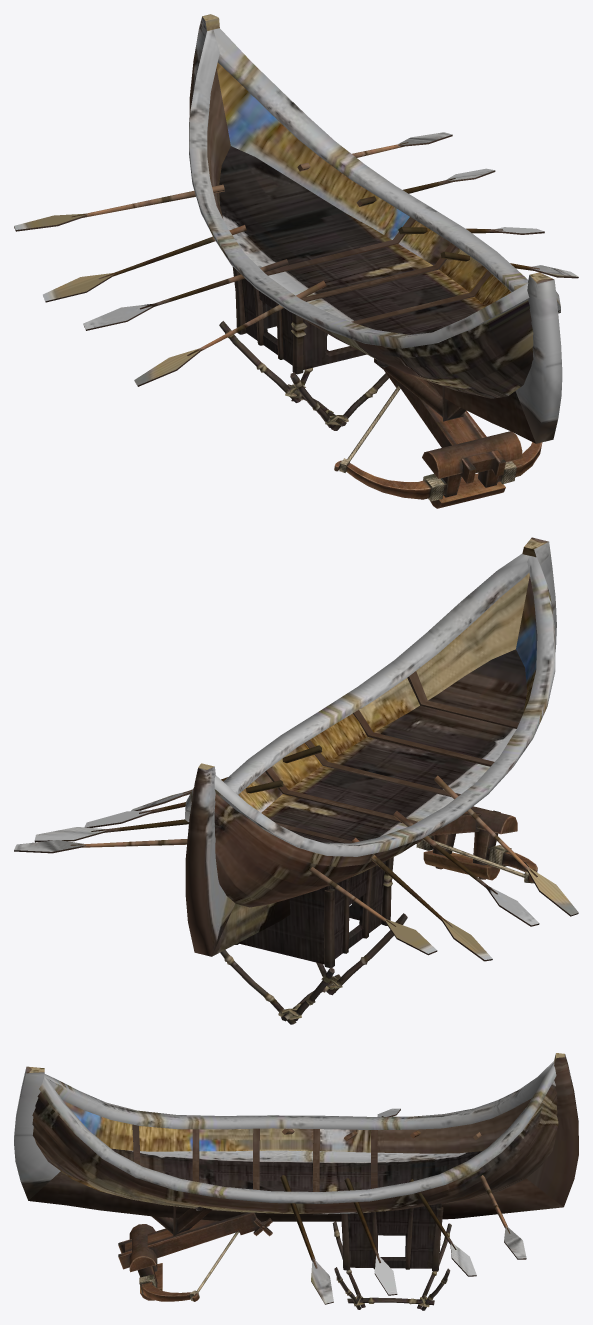
Rendered from 186-atlatlsiegecanoe.glb.
3 views of the same model, one above another, from view 1: azimuth 30°, elevation 25°; view 2: azimuth 150°, elevation 25°; view 3: azimuth 270°, elevation 25° (orthographic). The views are drawn at different scales.
Bounding box in the file's own units: 5.28 × 3.54 × 7.11.
Materials: 2 (2 with a texture image).
